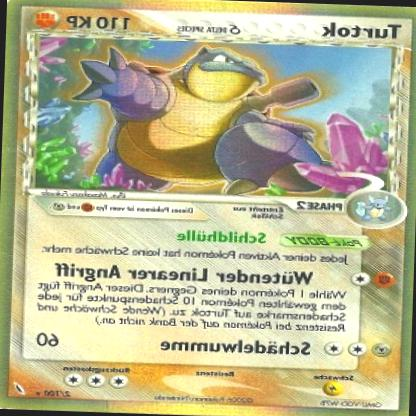Blastoise: (71, 42, 333, 197)
